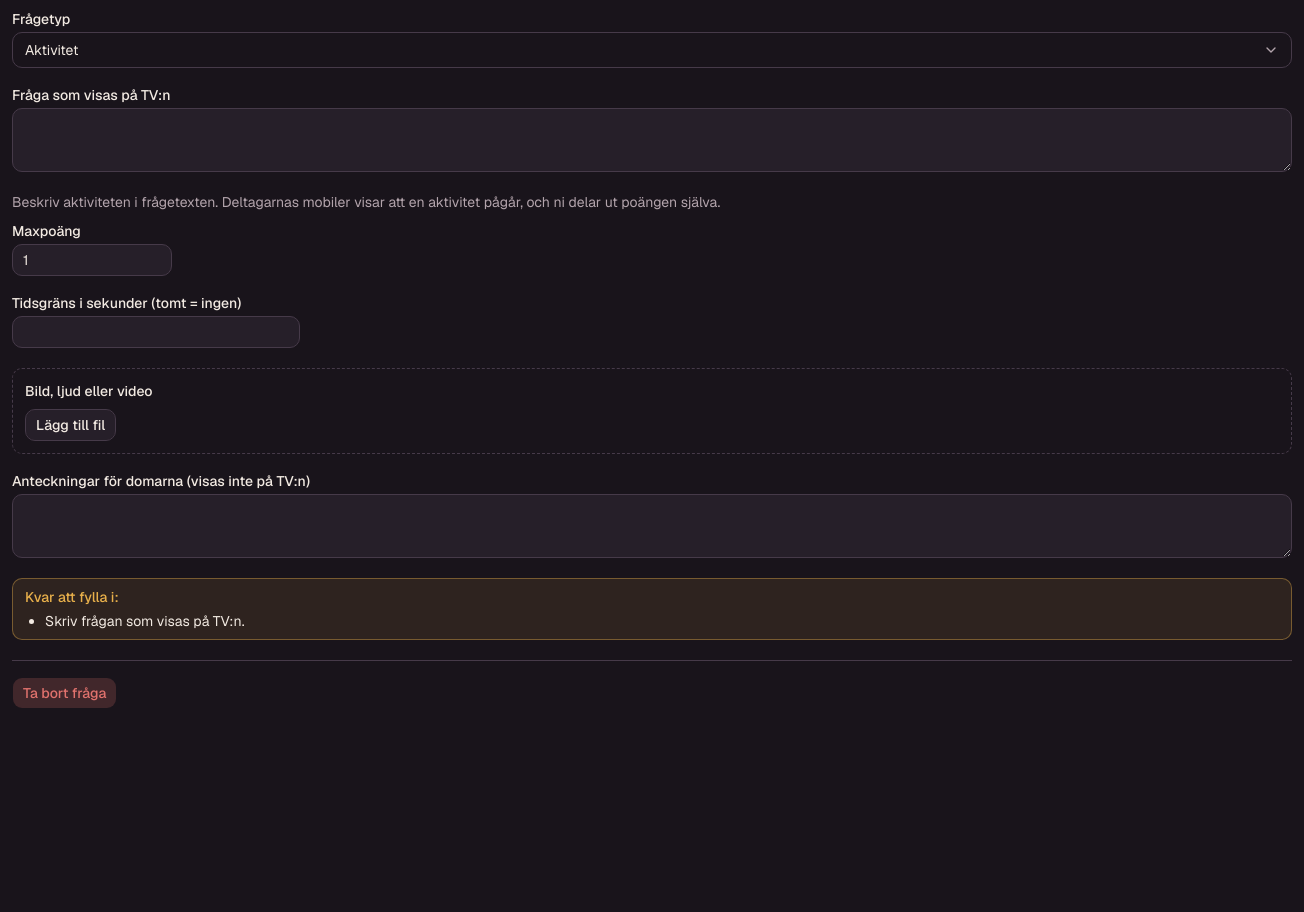
QuestionEditor › warns when a save fails
The width and height of the screenshot is (1304, 912).
Type "x" into the text box labelled "Fråga som visas på TV:n" at x=652, y=140, box [12, 108, 1292, 172]
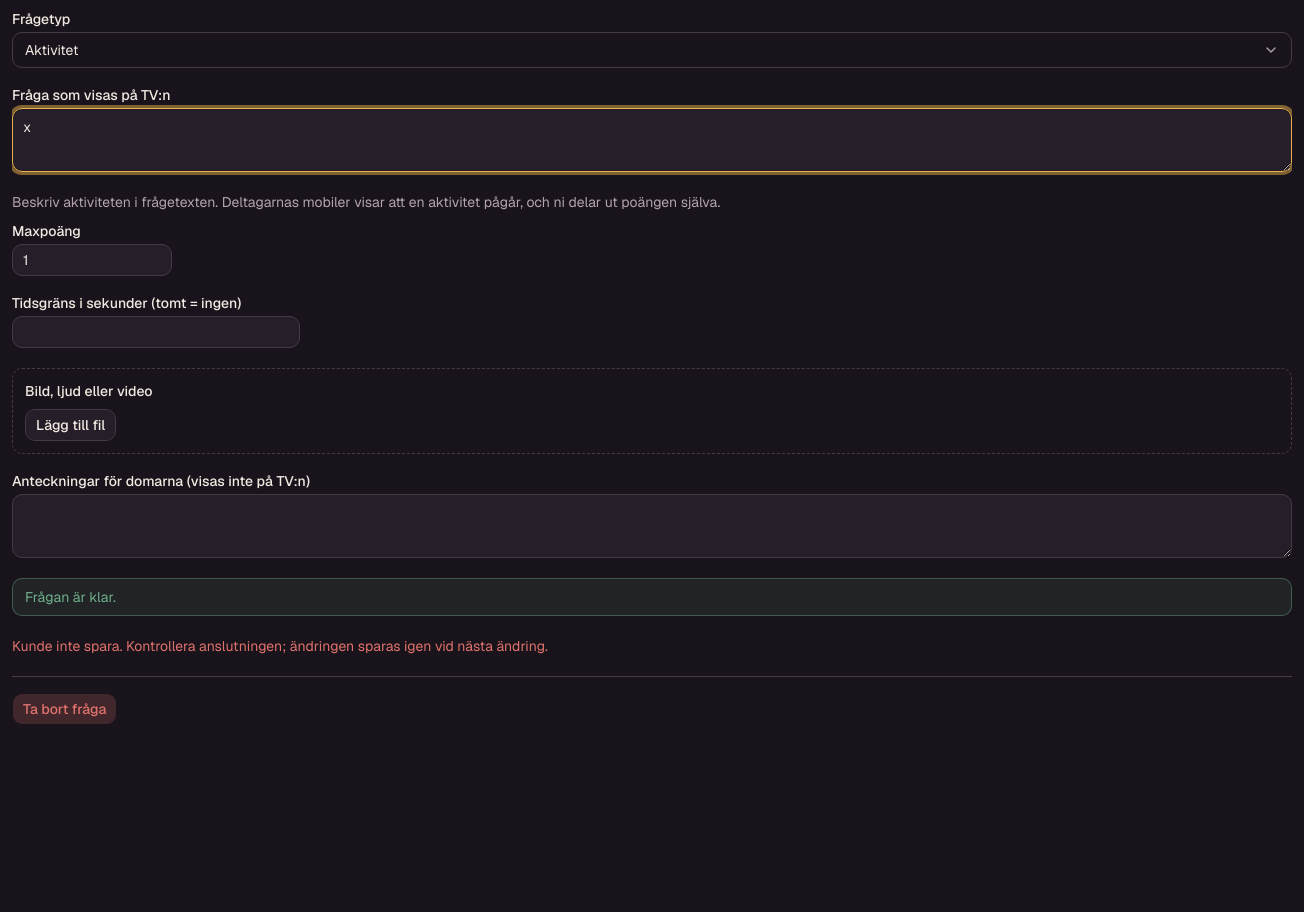
Check: the 2nd message shows "Kunde inte spara", box [12, 637, 548, 655]
